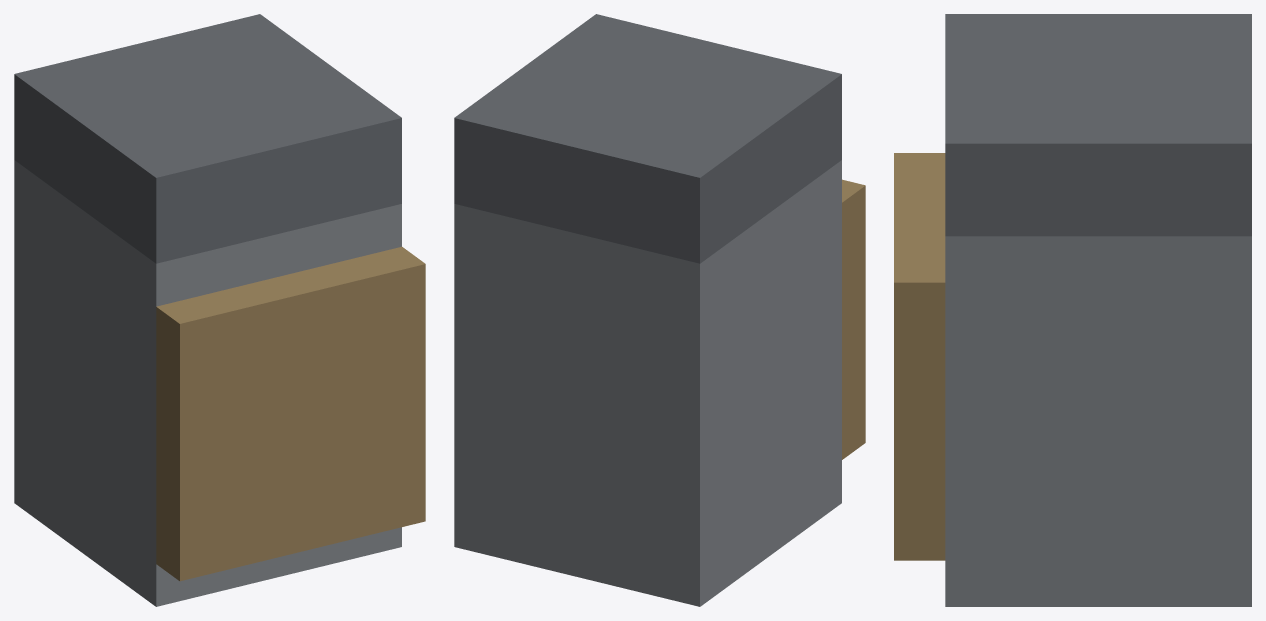
Rendered from left_thigh.glb.
3 views of the same model, side by side, from view 1: azimuth 30°, elevation 25°; view 2: azimuth 150°, elevation 25°; view 3: azimuth 270°, elevation 25° (orthographic). The views are drawn at different scales.
Bounding box in the file's own units: 6 × 10 × 7.
